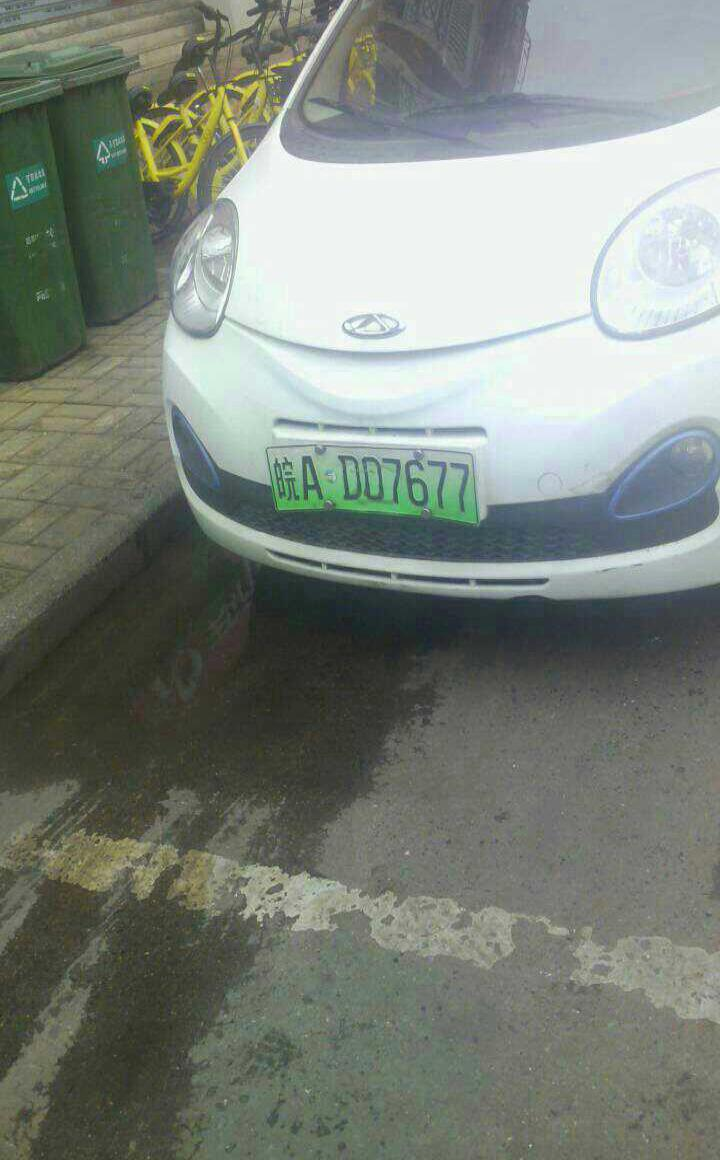car: (267, 448, 485, 522)
